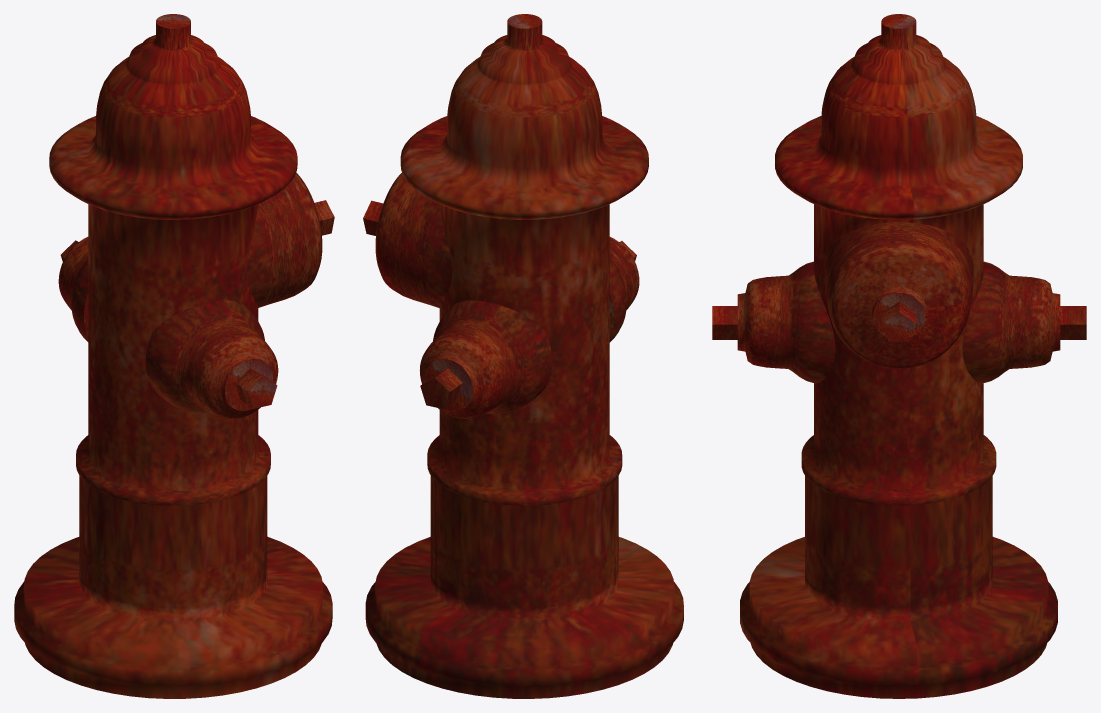
Rendered from fire hydrant.fbx.
The picture shows the model from 3 angles, left to right: view 1: azimuth 30°, elevation 25°; view 2: azimuth 150°, elevation 25°; view 3: azimuth 270°, elevation 25°; orthographic projection.
Visible parts, largest first — view 1: group4_pasted__pCylinder4; view 2: group4_pasted__pCylinder4; view 3: group4_pasted__pCylinder4.
Part boxes in pixels (x1,y1,x2,y2): group4_pasted__pCylinder4: (14, 14, 334, 698); group4_pasted__pCylinder4: (363, 14, 683, 698); group4_pasted__pCylinder4: (712, 14, 1086, 698).
Size of the model in its own units: 11.45 by 23.11 by 12.77.
Materials: 1 (1 with a texture image).
